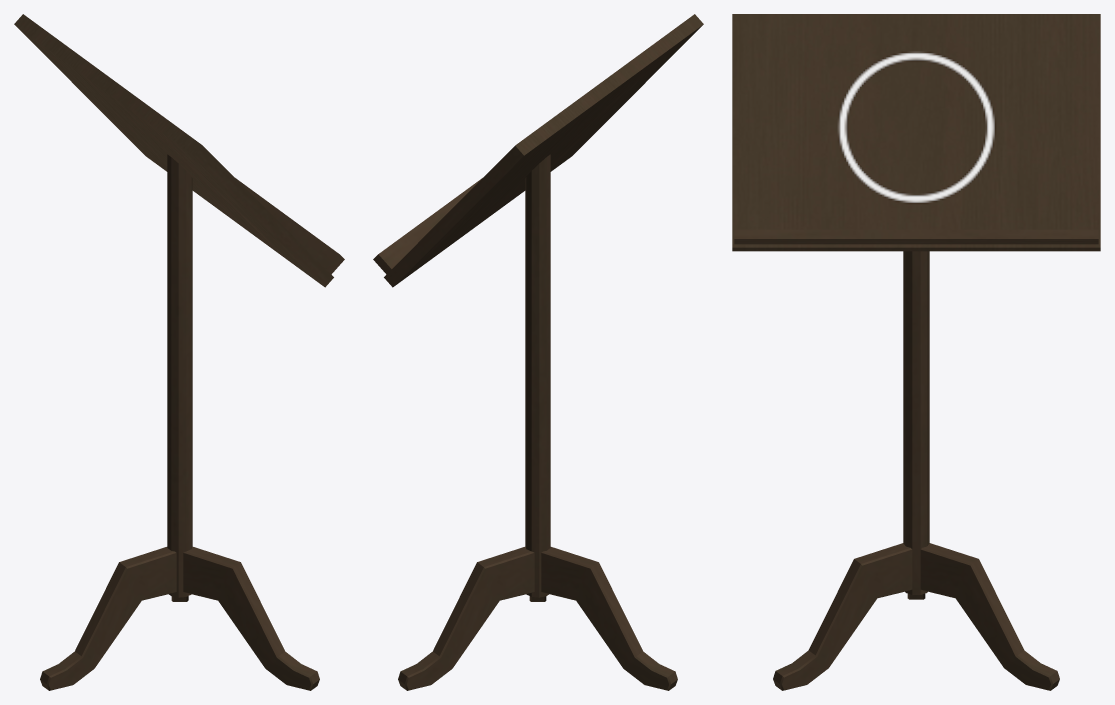
Rendered from lectern3.glb.
3 views of the same model, side by side, from view 1: azimuth 30°, elevation 25°; view 2: azimuth 150°, elevation 25°; view 3: azimuth 270°, elevation 25° (orthographic). The views are drawn at different scales.
Parts seen in each view (by area): view 1: lectern3; view 2: lectern3; view 3: lectern3.
Part boxes in pixels (x1,y1,x2,y2): lectern3: (14, 14, 344, 690); lectern3: (373, 14, 703, 690); lectern3: (732, 14, 1100, 690).
Bounding box in the file's own units: 0.5419 × 1.44 × 0.7931.
1 material, 1 textured.
